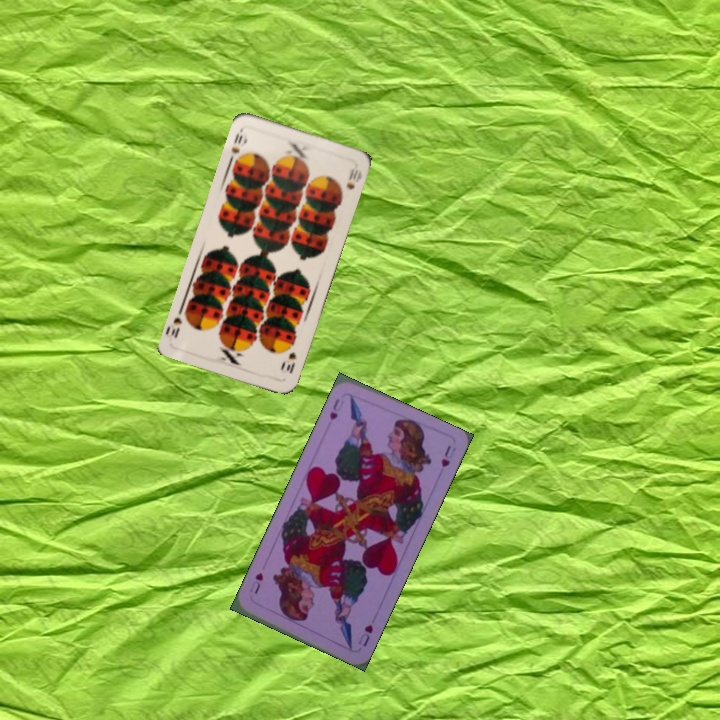HU: (354, 620, 376, 650), (325, 395, 346, 423)
S10: (225, 129, 245, 164), (279, 348, 299, 376)
